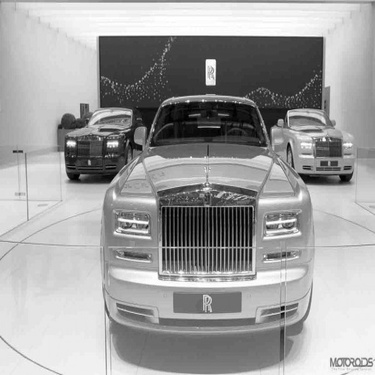car: (90, 87, 319, 338), (53, 96, 157, 193), (252, 98, 360, 184)
